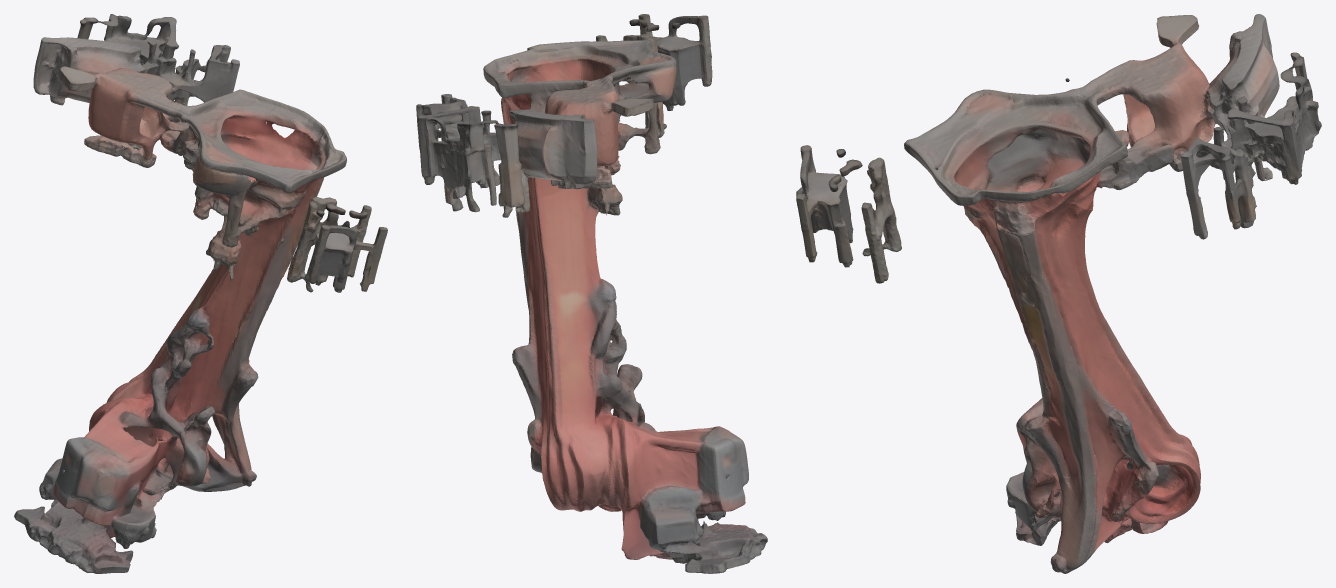
The model's file is robot-v4.glb.
3 views of the same model, side by side, from view 1: azimuth 30°, elevation 25°; view 2: azimuth 150°, elevation 25°; view 3: azimuth 270°, elevation 25° (orthographic). The views are drawn at different scales.
Visible parts, largest first — view 1: geometry_0; view 2: geometry_0; view 3: geometry_0.
Part boxes in pixels (left/top/right/bottom): geometry_0: left=14, top=14, right=387, bottom=573; geometry_0: left=416, top=14, right=767, bottom=573; geometry_0: left=796, top=14, right=1321, bottom=573.
Bounding box in the file's own units: 1.73 × 2.86 × 2.54.
